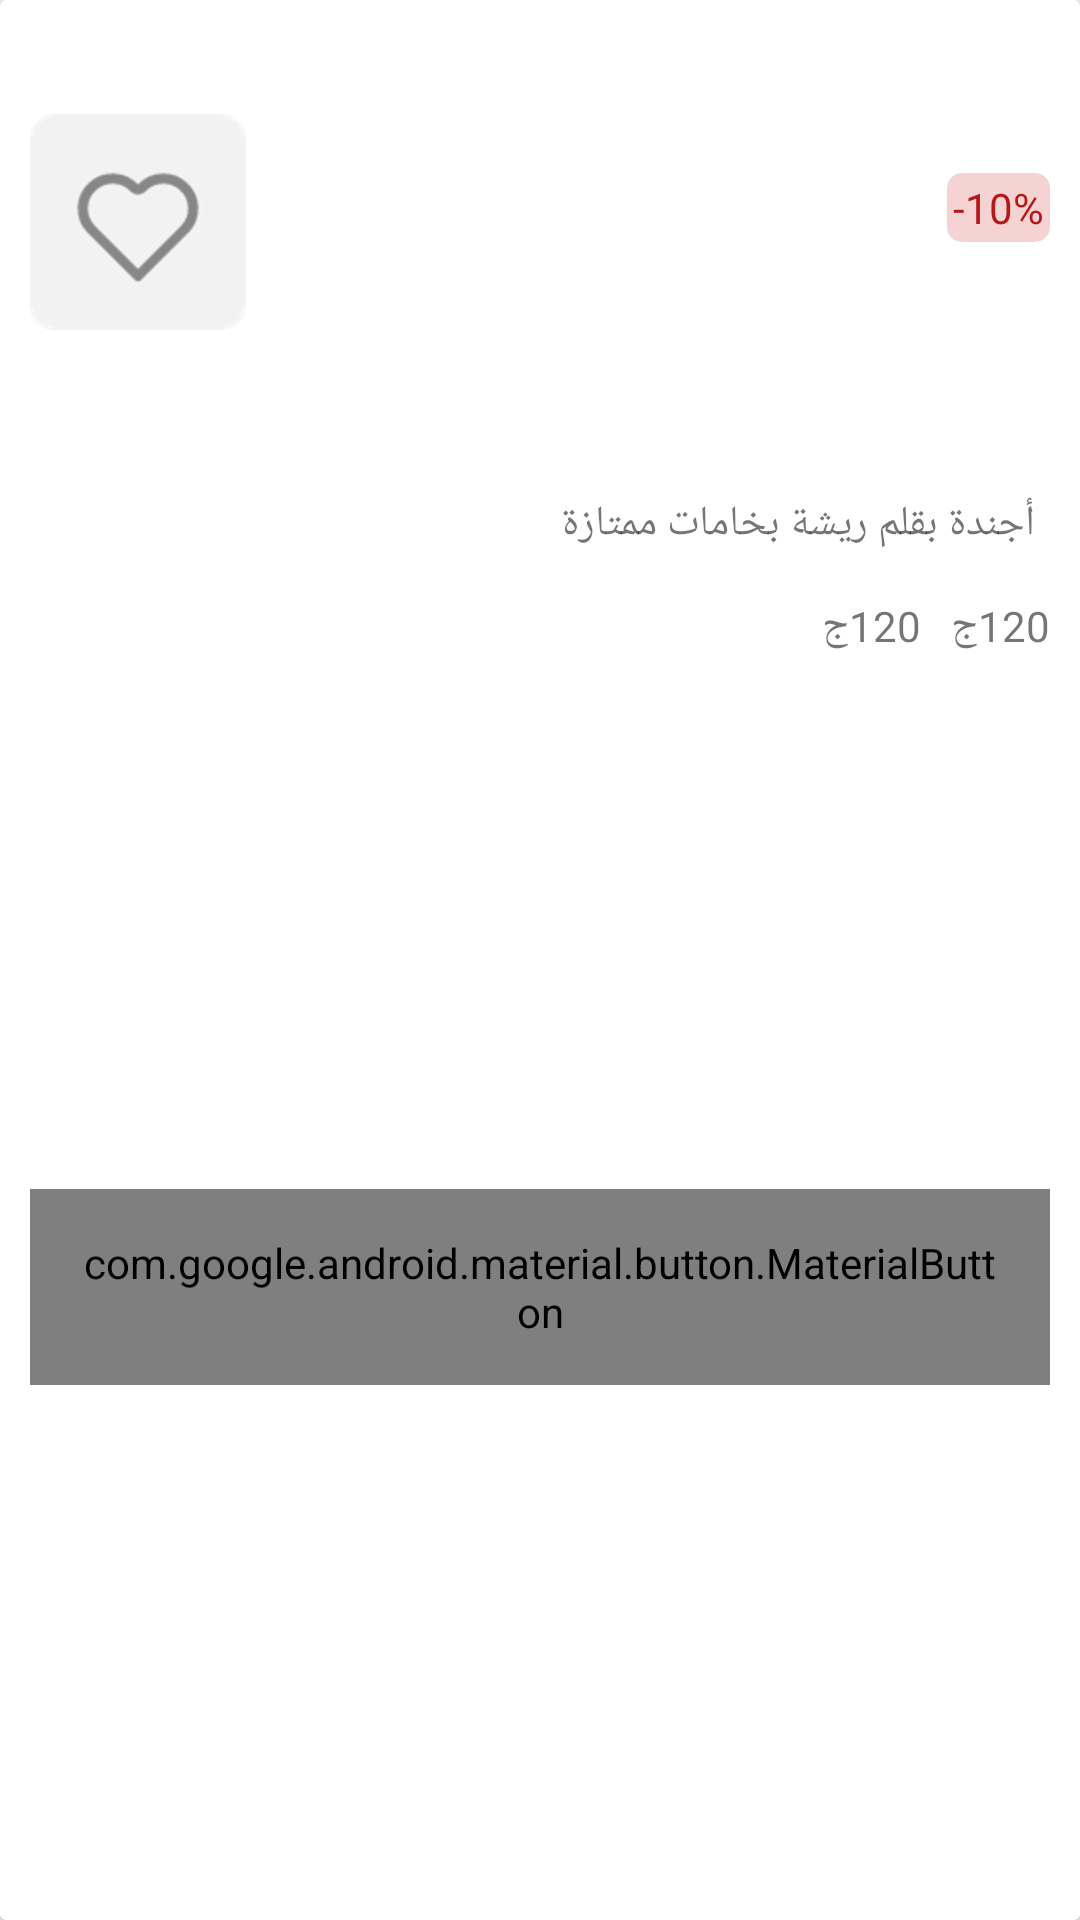

Named icons in this screenshot (1080 x 1920) and their centers, point (x, y):
like: point (138, 222)
